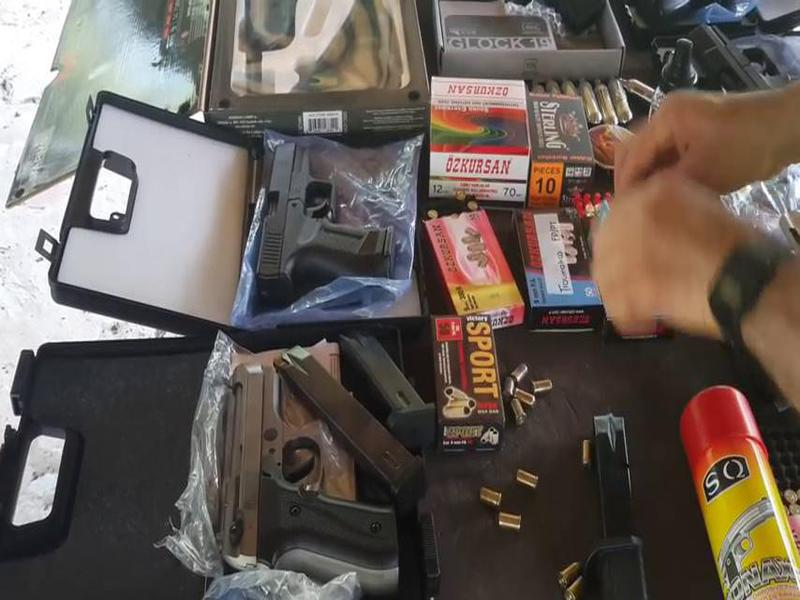Pistola: (197, 368, 426, 596), (256, 143, 394, 303)
